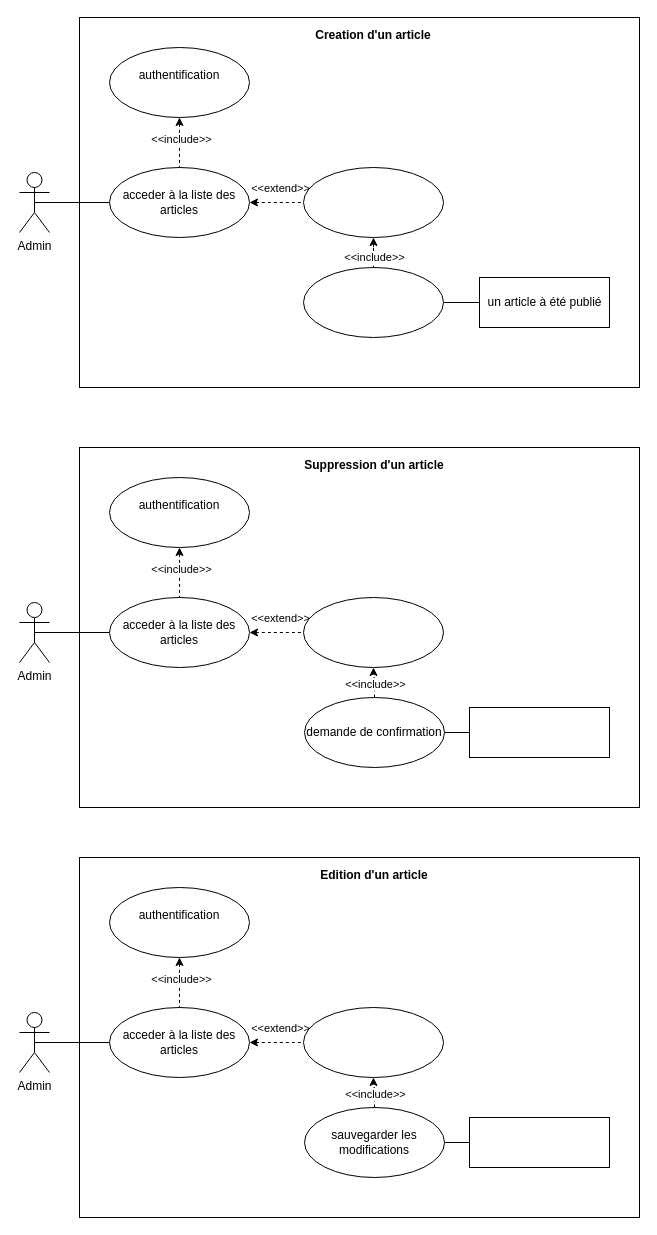
The diagram is 657 pixels wide and 1235 high, and some of its shapes have lost their labels. The centre of each missing label's shape, as x and y in pixels:
"ajouter un nouvel article" goes at (x=373, y=202).
"l'article à été modifié" goes at (x=539, y=1142).
"sauvegarder" goes at (x=373, y=302).
"supprimer un article" goes at (x=373, y=632).
"un article à été supprimé" goes at (x=539, y=732).
"éditer un article" goes at (x=373, y=1042).
